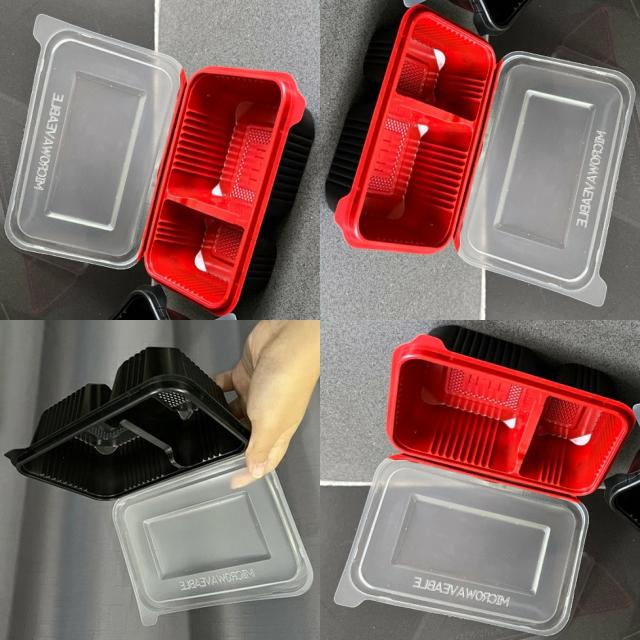Single-Use-Plastic: (335, 456, 588, 635), (456, 52, 634, 306), (5, 15, 182, 269), (386, 325, 635, 496), (144, 66, 314, 315), (326, 5, 496, 254), (8, 348, 249, 500), (112, 455, 312, 625)
